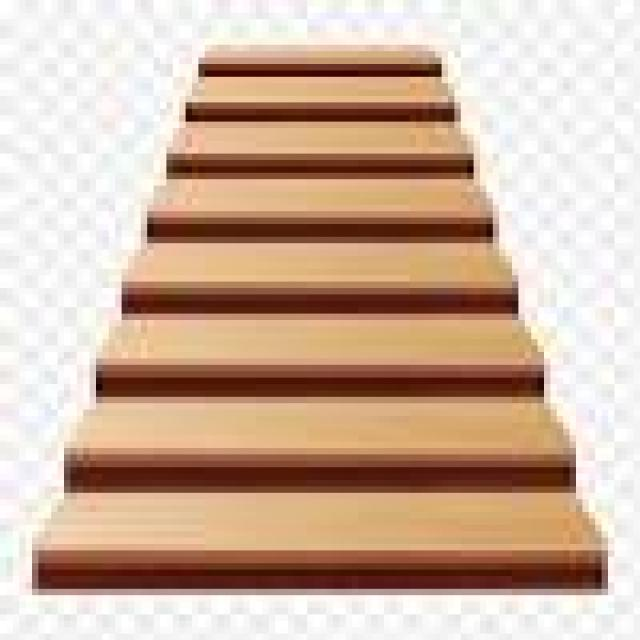upstair: (33, 32, 601, 588)
